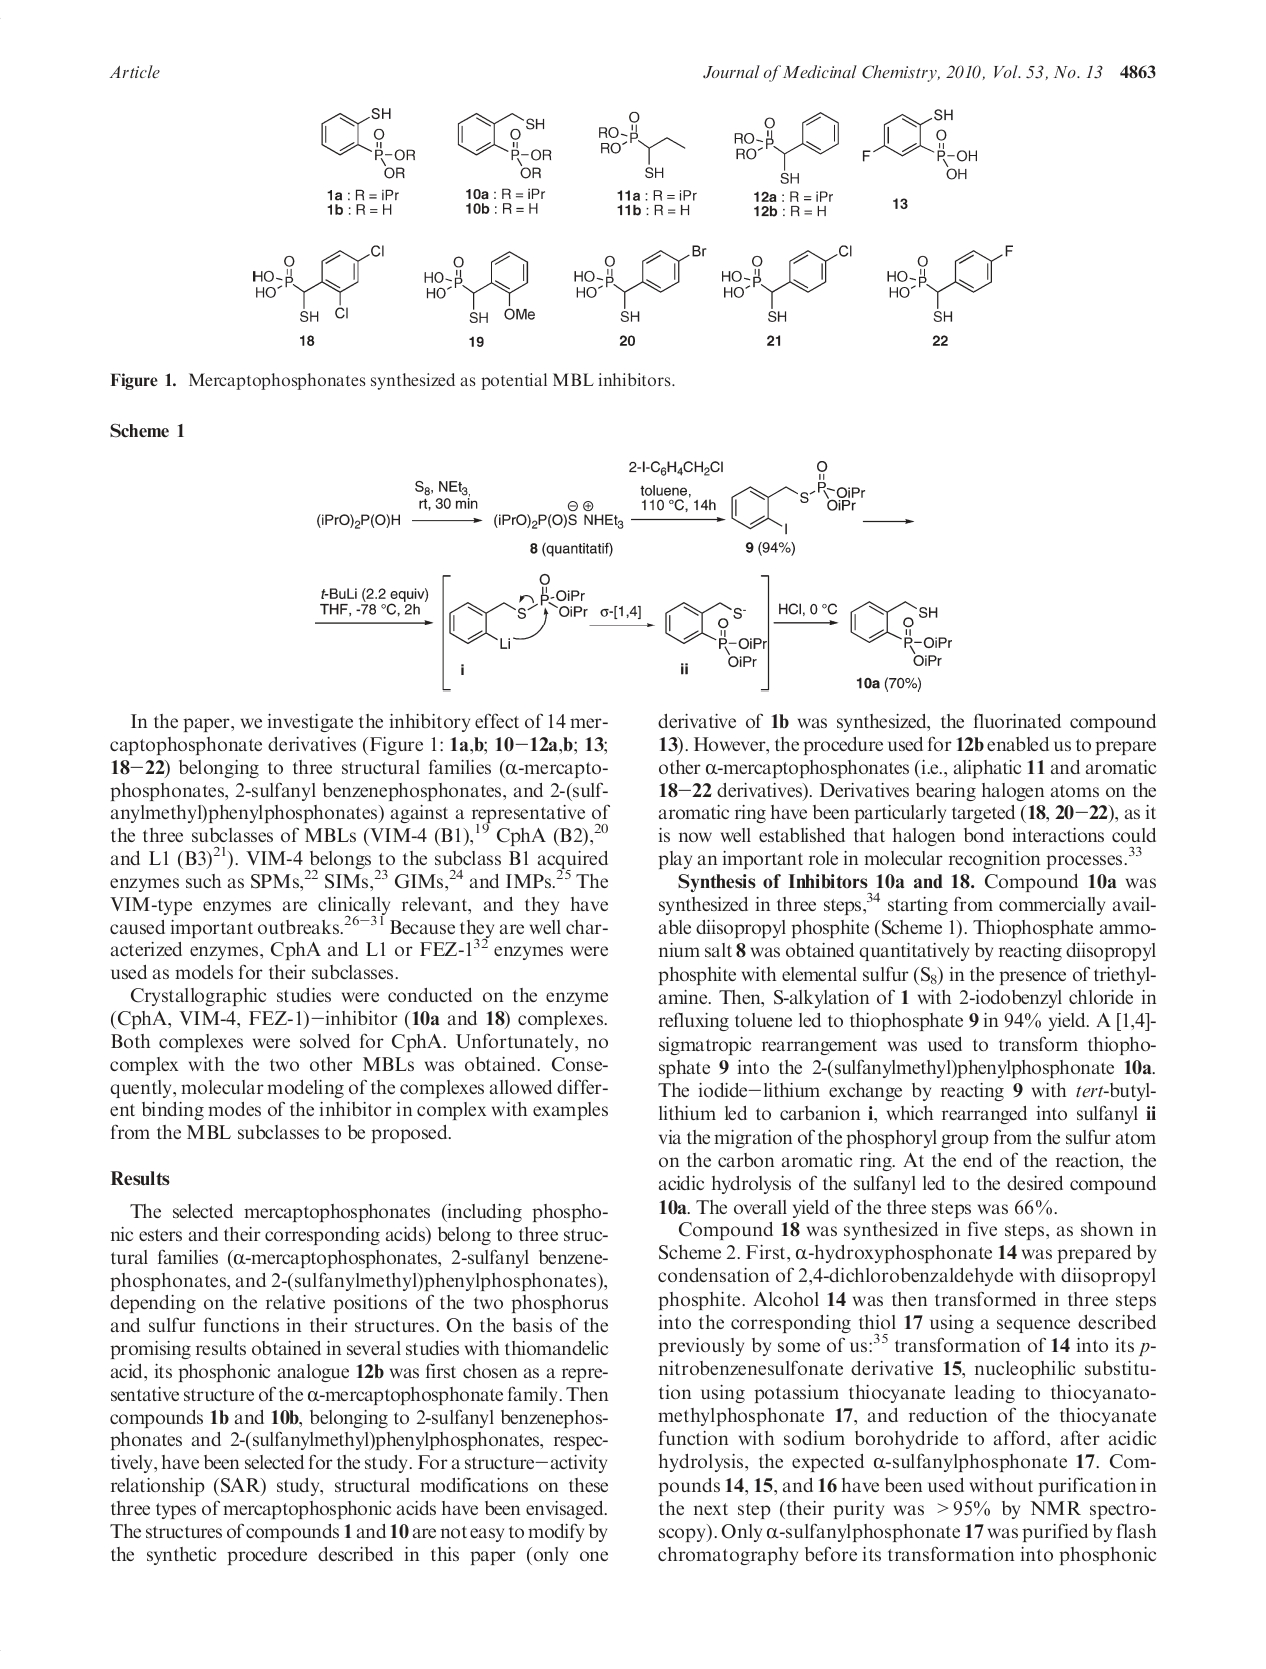exist_molecular: (250, 237, 399, 326), (444, 565, 597, 652), (573, 237, 711, 330), (718, 238, 856, 324), (725, 453, 874, 533), (883, 235, 1019, 321), (418, 242, 547, 330), (860, 106, 988, 184), (316, 100, 427, 188), (660, 590, 765, 676), (846, 598, 961, 676), (730, 109, 848, 182), (588, 105, 688, 180), (455, 106, 553, 180)
